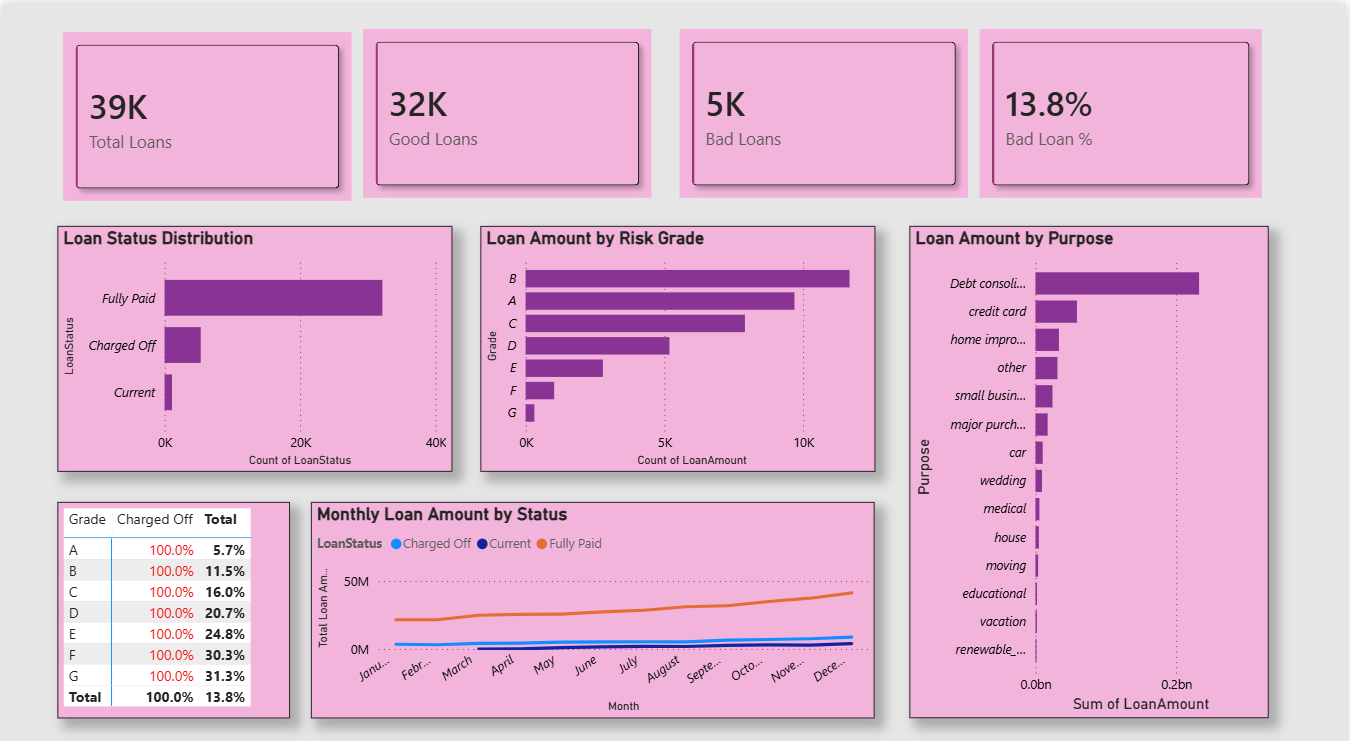

What the dashboard file says about the page in this screenshot:
{"tool":"powerbi","page":{"name":"Bank Loan Portfolio & Risk Analysis","canvas":[1280,720],"ordinal":0},"visuals":[{"type":"cardVisual","fields":{"Data":["financial_loan.Total Loans"]},"box":[52.9,20.8,285.4,172],"z":0},{"type":"cardVisual","fields":{"Data":["financial_loan.Good Loans"]},"box":[338.3,18.9,285.4,172],"z":1000},{"type":"cardVisual","fields":{"Data":["financial_loan.Bad Loans"]},"box":[640.6,18.9,285.4,172],"z":2000},{"type":"cardVisual","fields":{"Data":["financial_loan.Bad Loan %"]},"box":[926,18.9,279.7,172],"z":3000},{"type":"clusteredBarChart","title":"Loan Status Distribution","fields":{"Y":["CountNonNull(financial_loan.LoanStatus)"],"Category":["financial_loan.LoanStatus"]},"box":[52.9,211.7,376.1,234.3],"z":4000},{"type":"clusteredBarChart","title":"Loan Amount by Risk Grade","fields":{"Category":["financial_loan.Grade"],"Y":["CountNonNull(financial_loan.LoanAmount)"]},"box":[455.4,211.7,376.1,234.3],"z":5000},{"type":"clusteredBarChart","title":"Loan Amount by Purpose","fields":{"Category":["financial_loan.Purpose"],"Y":["Sum(financial_loan.LoanAmount)"]},"box":[863.6,211.7,342,468.7],"z":6000},{"type":"lineChart","title":"Monthly Loan Amount by Status","fields":{"Y":["financial_loan.Total Loan Amount"],"Series":["financial_loan.LoanStatus"],"Category":["financial_loan.IssueDate.Variation.Date Hierarchy.Month"]},"box":[294.8,474.3,536.7,206],"z":7000},{"type":"pivotTable","fields":{"Rows":["financial_loan.Grade"],"Columns":["financial_loan.LoanStatus"],"Values":["financial_loan.Bad Loan %"]},"box":[52.9,474.3,221.1,206],"z":8000}]}

Visuals, with their boxes in screenshot pixels (x1, y1, x2, y2), scaled from the page's 1280x720 canvas onto the 1350x741 screenshot:
cardVisual - financial_loan.Total Loans: box(56, 21, 357, 198)
cardVisual - financial_loan.Good Loans: box(357, 19, 658, 196)
cardVisual - financial_loan.Bad Loans: box(676, 19, 977, 196)
cardVisual - financial_loan.Bad Loan %: box(977, 19, 1272, 196)
"Loan Status Distribution" clusteredBarChart: box(56, 218, 452, 459)
"Loan Amount by Risk Grade" clusteredBarChart: box(480, 218, 877, 459)
"Loan Amount by Purpose" clusteredBarChart: box(911, 218, 1272, 700)
"Monthly Loan Amount by Status" lineChart: box(311, 488, 877, 700)
pivotTable - financial_loan.Grade x financial_loan.LoanStatus: box(56, 488, 289, 700)
